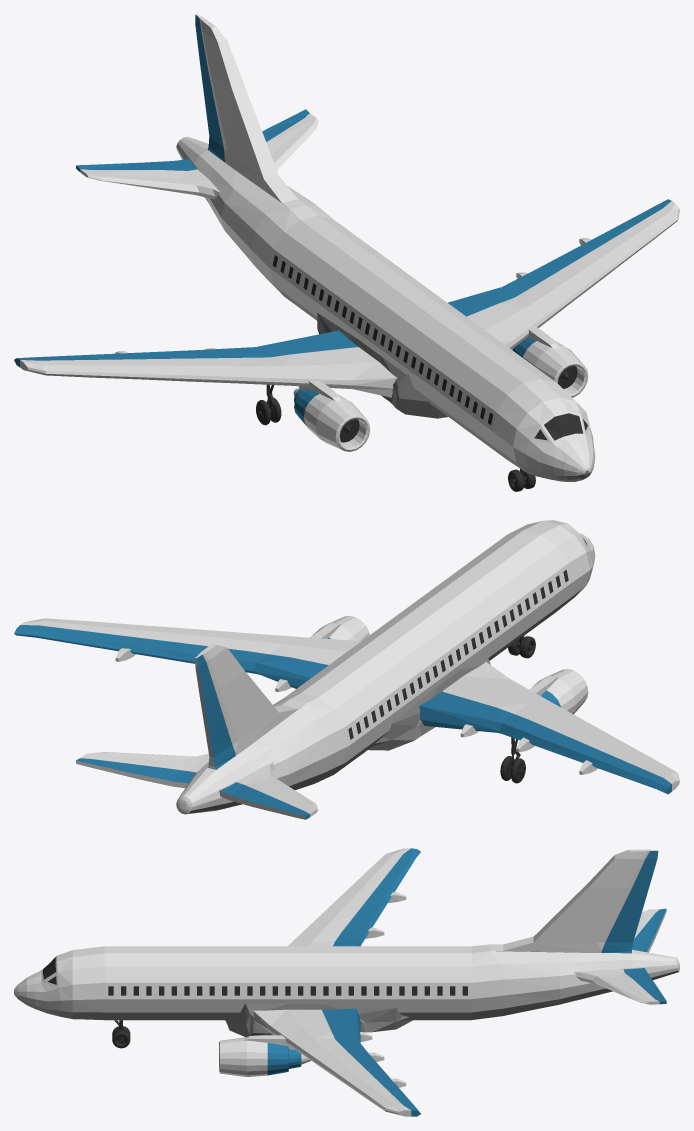
Rendered from airplane.dae.
3 renders of one model, top to bottom at view 1: azimuth 30°, elevation 25°; view 2: azimuth 150°, elevation 25°; view 3: azimuth 270°, elevation 25°, orthographic. The views are drawn at different scales.
Parts seen in each view (by area): view 1: model; view 2: model; view 3: model.
Part boxes in pixels (<box>): model: <box>14,14,679,491</box>; model: <box>14,520,679,819</box>; model: <box>14,848,679,1116</box>.
Size of the model in its own units: 0.8862 by 0.3076 by 0.9522.
1 material, 1 textured.
